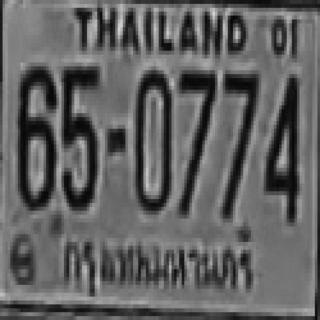N00: (133, 66, 169, 211)
N04: (264, 72, 297, 220)
N05: (60, 62, 98, 207)
N06: (15, 62, 56, 207)
N07: (176, 66, 215, 215), (219, 70, 257, 219)
P04: (56, 230, 260, 301)
